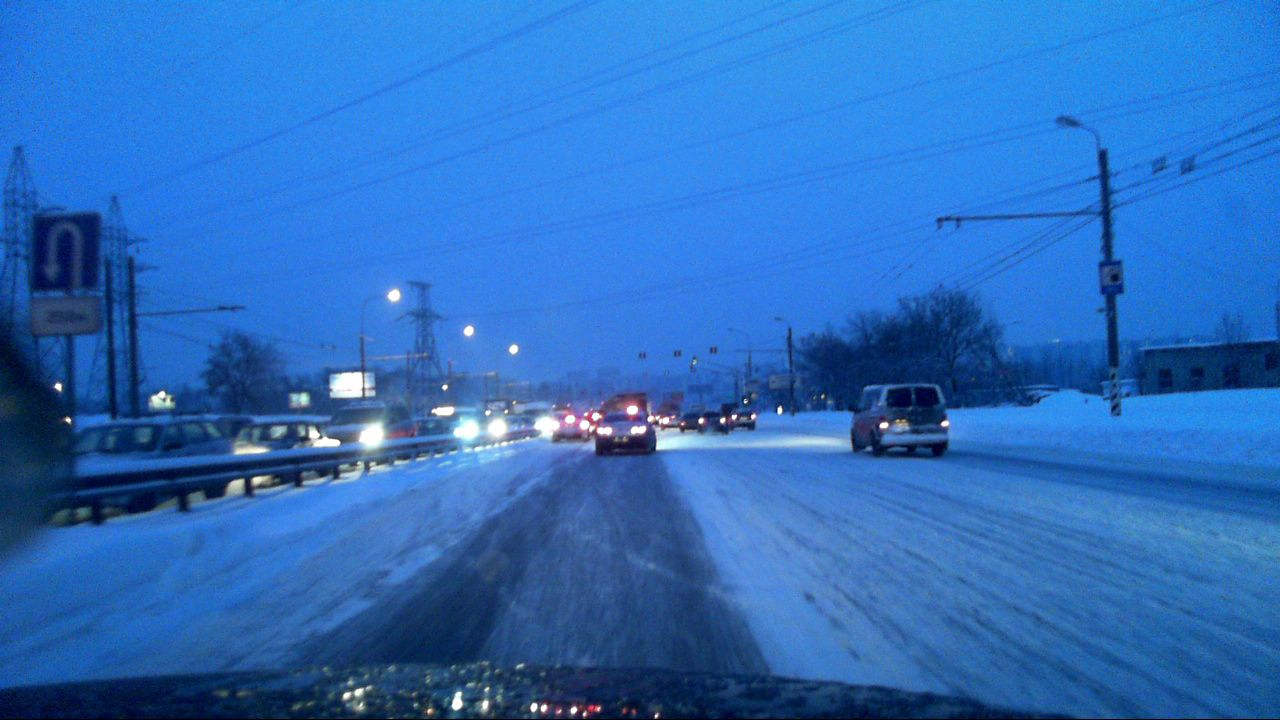U-turn: (33, 216, 95, 293)
